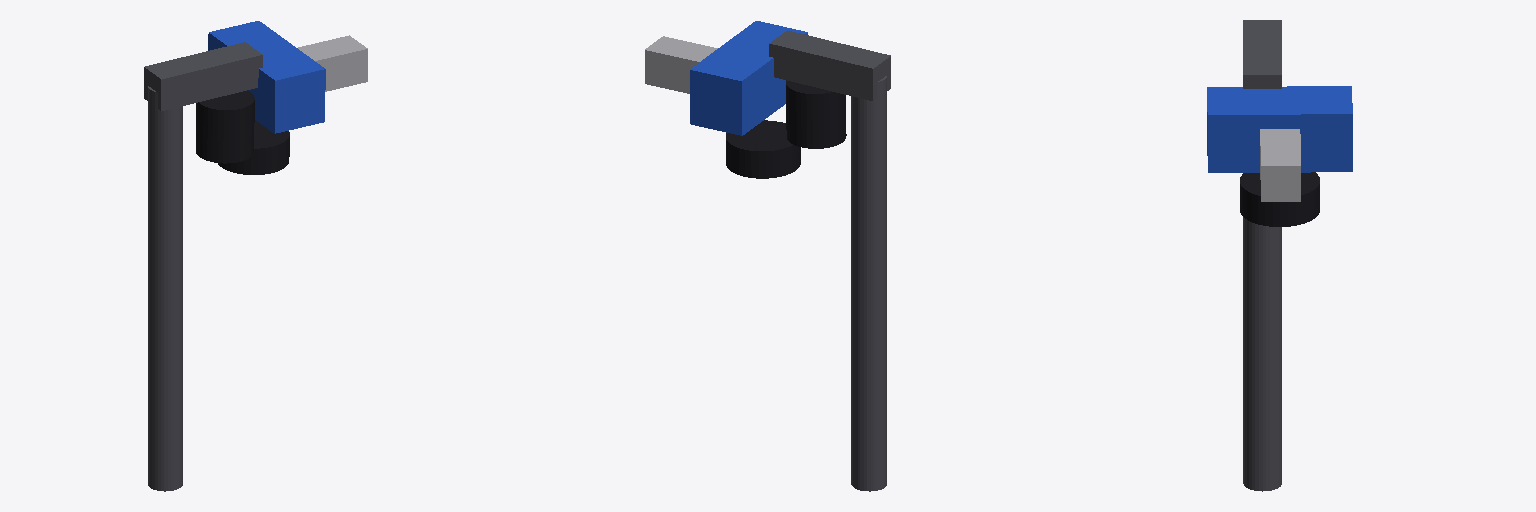
The robot description file, URDF, robot "head":
<?xml version="1.0"?>
<!--
  Pan/tilt head of the swerve robot: the Intel RealSense D435 (depth and colour) on one rigid head.
  Read by robot_state_publisher (TF), mcp_server (aiming) and the web_ui 3D view.

  ESTIMATES: the mount (head_mount_joint xyz 0.15 0.10 0.31), the tilt offset (0.04 m) and the
  d435_joint origin are estimates; the head calibration (head_chain.json) refines them.

  Servo centre 2048 = 0 rad = head straight ahead and level.
  Sign conventions (REP 103): head_pan positive = looking left (CCW seen from above, +z);
  head_tilt positive = looking down (pitch about +y, decided in ruling R3).
  head_tilt range -30..+45 deg: the reprinted mount allows 45 deg down (docs/runbooks/head-arm-calibration.md).
  Optical frames: z forward, x right, y down (rpy -1.5708 0 -1.5708 from the body frame).
  Velocity limits 1.0 rad/s are the D3 caps.

  head_post comes up from behind the lidar (laser_frame at 0.158 0.06 0.20, radius about 0.035 m)
  and bends forward above it to the pan axis, so it hides as little of the lidar view as possible.
  No meshes: primitives only.
-->
<robot name="head">
  <link name="base_link"/>

  <!-- Post: vertical column behind the lidar (x 0.09, back edge of lidar is 0.123), then a
       horizontal arm at z 0.30 forward to the pan base. -->
  <link name="head_post">
    <visual>
      <origin xyz="0.09 0.10 0.15" rpy="0 0 0"/>
      <geometry><cylinder radius="0.012" length="0.30"/></geometry>
      <material name="head_post_grey"><color rgba="0.35 0.35 0.38 1"/></material>
    </visual>
    <visual>
      <origin xyz="0.12 0.10 0.30" rpy="0 0 0"/>
      <geometry><box size="0.08 0.024 0.024"/></geometry>
      <material name="head_post_grey"/>
    </visual>
  </link>
  <joint name="head_post_joint" type="fixed">
    <parent link="base_link"/>
    <child link="head_post"/>
    <origin xyz="0 0 0" rpy="0 0 0"/>
  </joint>

  <link name="head_pan_base">
    <visual>
      <origin xyz="0 0 -0.01" rpy="0 0 0"/>
      <geometry><cylinder radius="0.025" length="0.02"/></geometry>
      <material name="head_servo_dark"><color rgba="0.15 0.15 0.17 1"/></material>
    </visual>
  </link>
  <!-- head_mount_joint calibrated: ground board fit 2026-11-11, rms 0.88 px, 3 placements -->
  <joint name="head_mount_joint" type="fixed">
    <parent link="base_link"/>
    <child link="head_pan_base"/>
    <origin xyz="0.165543411 0.110744294 0.242297579" rpy="0.002721887 0.014774775 0.008248764"/>
  </joint>

  <link name="head_pan_link">
    <visual>
      <origin xyz="0 0 0.02" rpy="0 0 0"/>
      <geometry><cylinder radius="0.02" length="0.04"/></geometry>
      <material name="head_servo_dark"/>
    </visual>
  </link>
  <!-- head_pan calibrated: ground board fit 2026-11-11, rms 0.88 px, 3 placements -->
  <joint name="head_pan" type="revolute">
    <parent link="head_pan_base"/>
    <child link="head_pan_link"/>
    <origin xyz="-0.031938113 -0.015897602 0.000000000" rpy="0.000000000 0.000000000 0.000000000"/>
    <axis xyz="0 0 1"/>
    <limit lower="-1.5708" upper="1.5708" effort="2.0" velocity="1.0"/>
  </joint>

  <link name="head_link">
    <visual>
      <origin xyz="0.01 0 0" rpy="0 0 0"/>
      <geometry><box size="0.04 0.09 0.04"/></geometry>
      <material name="head_body_blue"><color rgba="0.2 0.4 0.8 1"/></material>
    </visual>
  </link>
  <!-- head_tilt calibrated: ground board fit 2026-11-11, rms 0.88 px, 3 placements -->
  <joint name="head_tilt" type="revolute">
    <parent link="head_pan_link"/>
    <child link="head_link"/>
    <origin xyz="0.031938113 0.015897602 0.040000000" rpy="0.001625992 -0.000311176 0.000000000"/>
    <axis xyz="0 1 0"/>
    <limit lower="-0.5236" upper="0.7854" effort="2.0" velocity="1.0"/>
  </joint>

  <!-- Intel RealSense D435 on the head (design D4): the driver publishes no TF, this URDF owns every d435 frame.
       d435_joint xyz 0.02 0 0 is the CAD start at the old head unit's centre; the head-from-arm fit refines it.
       d435_link is the depth frame (left imager); d435_color_joint is the factory extrinsic, see its comment. -->
  <link name="d435_link">
    <visual>
      <origin xyz="0 0 0" rpy="0 0 0"/>
      <geometry><box size="0.090 0.025 0.025"/></geometry>
      <material name="d435_silver"><color rgba="0.7 0.7 0.72 1"/></material>
    </visual>
  </link>
  <!-- d435_joint calibrated: ground board fit 2026-11-11, rms 0.88 px, 3 placements -->
  <joint name="d435_joint" type="fixed">
    <parent link="head_link"/>
    <child link="d435_link"/>
    <origin xyz="0.037844510 0.000000000 -0.002259957" rpy="-0.002713497 0.000000000 0.002981290"/>
  </joint>
  <link name="d435_depth_frame"/>
  <joint name="d435_depth_joint" type="fixed">
    <parent link="d435_link"/>
    <child link="d435_depth_frame"/>
    <origin xyz="0 0 0" rpy="0 0 0"/>
  </joint>
  <link name="d435_depth_optical_frame"/>
  <joint name="d435_depth_optical_joint" type="fixed">
    <parent link="d435_depth_frame"/>
    <child link="d435_depth_optical_frame"/>
    <origin xyz="0 0 0" rpy="-1.5707963 0 -1.5707963"/>
  </joint>
  <link name="d435_color_frame"/>
  <!-- Factory Color-to-Depth extrinsic of the head D435 (device serial 935422070045, ASIC serial / firmware update id
       935723024187), read 2026-10-28 by the device mode of scripts/d435_diag.sh (rs-enumerate-devices -c). Optical axes:
       t = (-0.0150171, 0.0000698, 0.0001761) m; rotated to body axes (x = z_opt, y = -x_opt, z = -y_opt), as
       realsense2_camera would publish it: the colour imager sits 15 mm to the camera's left (+y) of the left imager. -->
  <joint name="d435_color_joint" type="fixed">
    <parent link="d435_link"/>
    <child link="d435_color_frame"/>
    <origin xyz="0.0001761 0.0150171 -0.0000698" rpy="0.0082621 -0.0014919 0.0056971"/>
  </joint>
  <link name="d435_color_optical_frame"/>
  <joint name="d435_color_optical_joint" type="fixed">
    <parent link="d435_color_frame"/>
    <child link="d435_color_optical_frame"/>
    <origin xyz="0 0 0" rpy="-1.5707963 0 -1.5707963"/>
  </joint>
</robot>

--- What the picture shows (computed from the rendered views, not written in the file) ---
The picture shows the robot from 3 angles, left to right: view 1: azimuth 30°, elevation 25°; view 2: azimuth 150°, elevation 25°; view 3: azimuth 270°, elevation 25°; orthographic projection.
Robot: head — 10 links, 9 joints (2 revolute, 7 fixed); root link base_link; default pose: every joint at zero.
Visible links, largest first — view 1: head_post, head_link, head_pan_link, d435_link, head_pan_base; view 2: head_post, head_link, head_pan_link, head_pan_base, d435_link; view 3: head_post, head_link, d435_link, head_pan_base.
Boxes of the visible links, x1,y1,x2,y2 form: head_post: (144,42,262,491); head_link: (208,21,325,133); head_pan_link: (196,90,254,163); d435_link: (298,35,367,91); head_pan_base: (218,120,289,174); head_post: (769,30,890,491); head_link: (690,21,807,135); head_pan_link: (786,80,846,148); head_pan_base: (726,120,800,178); d435_link: (645,36,717,93); head_post: (1243,20,1281,491); head_link: (1207,86,1352,172); d435_link: (1260,129,1300,201); head_pan_base: (1240,172,1319,226).
Bounding box of the posed robot: 0.1713 × 0.0905 × 0.312 m (x, y, z).
Geometry: primitives only (box / cylinder / sphere), no mesh files.
